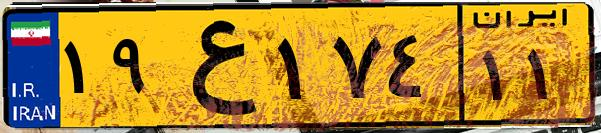1: (270, 28, 330, 110), (57, 26, 110, 100), (475, 38, 525, 113), (525, 38, 570, 115)
4: (385, 28, 445, 110)
7: (330, 28, 385, 110)
9: (110, 28, 158, 98)
ع: (158, 12, 270, 120)
